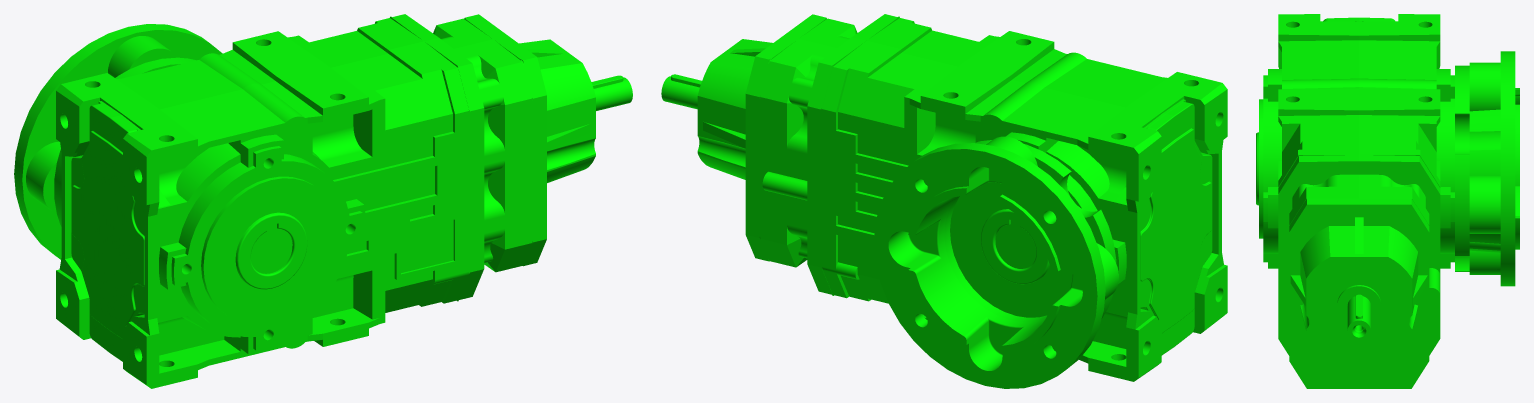
3 renders of one model, left to right at view 1: azimuth 30°, elevation 25°; view 2: azimuth 150°, elevation 25°; view 3: azimuth 270°, elevation 25°, orthographic. The views are drawn at different scales.
Visible parts, largest first — view 1: AMOS_0002167520181031034553_M-5, AMOS_0002167520181031034553_M-4, AMOS_0002167520181031034553_M-11, AMOS_0002167520181031034553_M-3, AMOS_0002167520181031034553_M-2, AMOS_0002167520181031034553_M, AMOS_0002167520181031034553_M-10; view 2: AMOS_0002167520181031034553_M-5, AMOS_0002167520181031034553_M-3, AMOS_0002167520181031034553_M-4, AMOS_0002167520181031034553_M-11, AMOS_0002167520181031034553_M-2, AMOS_0002167520181031034553_M-1, AMOS_0002167520181031034553_M-10; view 3: AMOS_0002167520181031034553_M-5, AMOS_0002167520181031034553_M-2, AMOS_0002167520181031034553_M-3, AMOS_0002167520181031034553_M-4, AMOS_0002167520181031034553_M-10, AMOS_0002167520181031034553_M-8, AMOS_0002167520181031034553_M-11.
Part boxes in pixels (x1,y1,x2,y2): AMOS_0002167520181031034553_M-5: (56, 18, 469, 388); AMOS_0002167520181031034553_M-4: (392, 14, 532, 299); AMOS_0002167520181031034553_M-11: (71, 103, 144, 361); AMOS_0002167520181031034553_M-3: (14, 24, 222, 259); AMOS_0002167520181031034553_M-2: (464, 14, 595, 266); AMOS_0002167520181031034553_M: (235, 212, 307, 289); AMOS_0002167520181031034553_M-10: (594, 77, 632, 110); AMOS_0002167520181031034553_M-5: (822, 18, 1227, 381); AMOS_0002167520181031034553_M-3: (874, 136, 1118, 388); AMOS_0002167520181031034553_M-4: (760, 14, 897, 294); AMOS_0002167520181031034553_M-11: (1140, 102, 1212, 355); AMOS_0002167520181031034553_M-2: (697, 14, 826, 261); AMOS_0002167520181031034553_M-1: (981, 209, 1049, 284); AMOS_0002167520181031034553_M-10: (661, 76, 699, 109); AMOS_0002167520181031034553_M-5: (1259, 14, 1454, 268); AMOS_0002167520181031034553_M-2: (1289, 198, 1429, 388); AMOS_0002167520181031034553_M-3: (1455, 51, 1519, 286); AMOS_0002167520181031034553_M-4: (1278, 155, 1440, 355); AMOS_0002167520181031034553_M-10: (1337, 285, 1381, 341); AMOS_0002167520181031034553_M-8: (1278, 154, 1440, 187); AMOS_0002167520181031034553_M-11: (1323, 17, 1394, 21).
Size of the model in its own units: 368 by 160 by 179.
